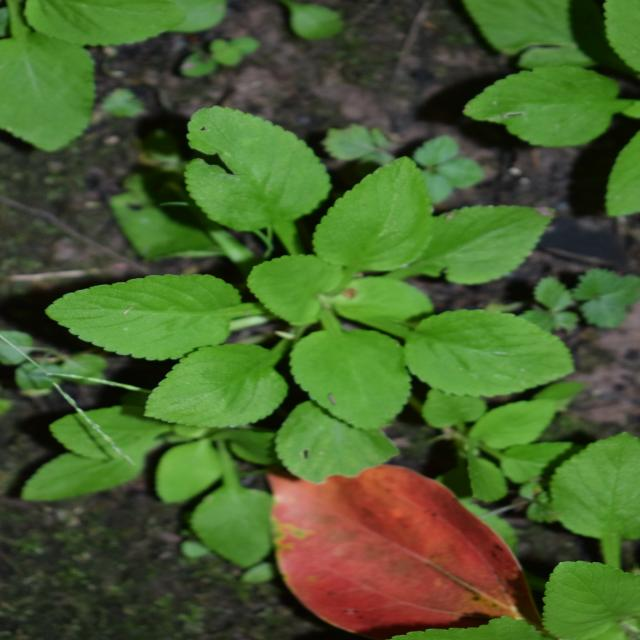Viola: (155, 96, 467, 547)
